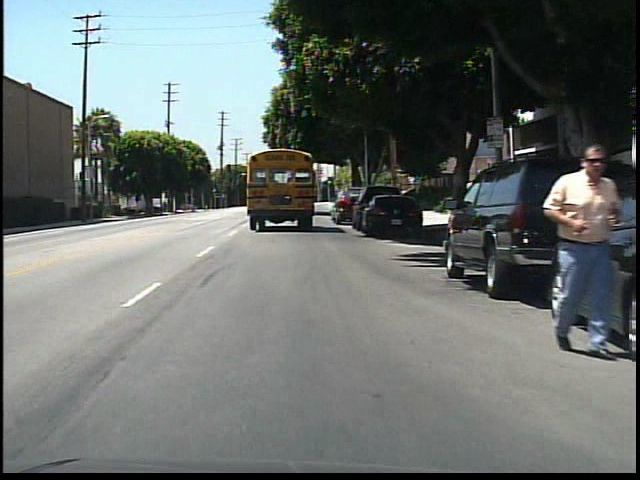person: (531, 136, 611, 358)
